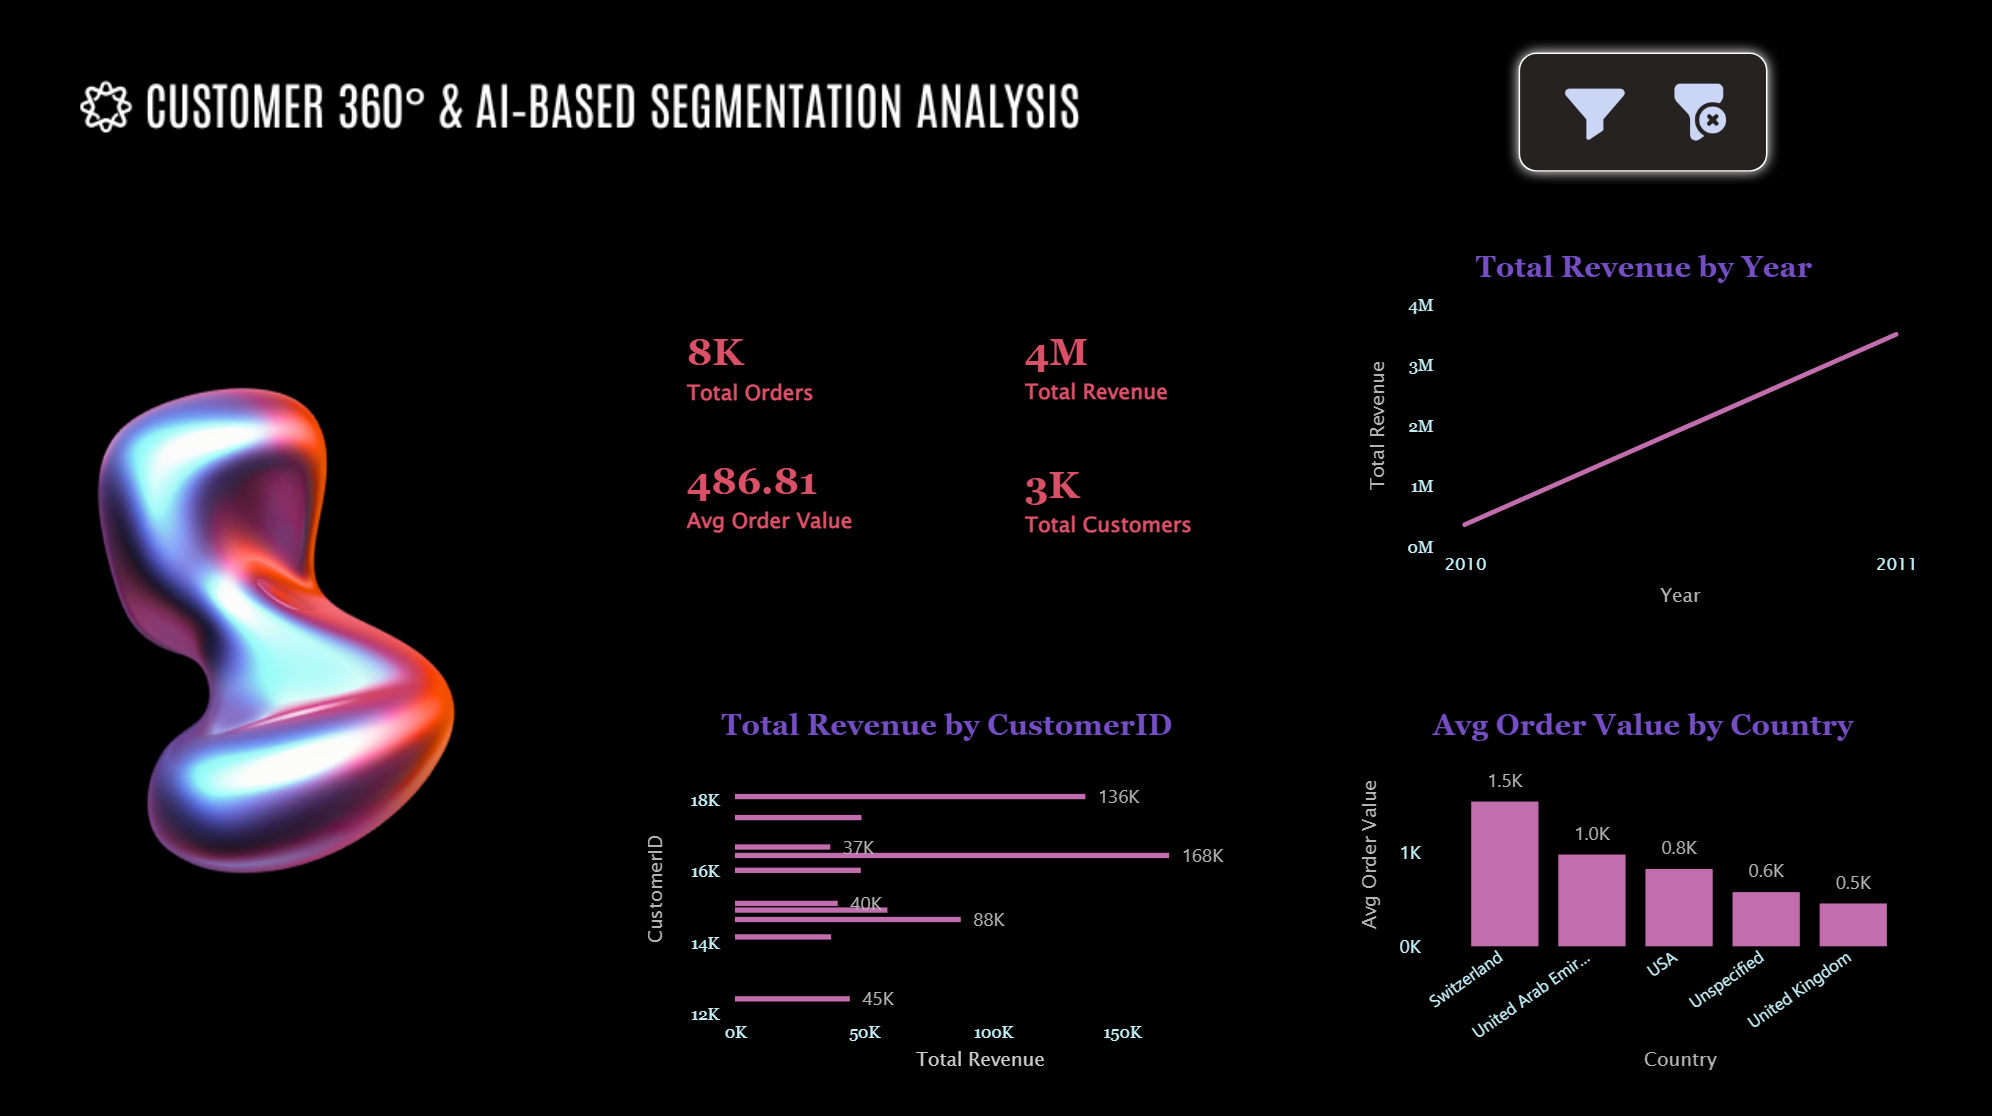

The page's visual inventory and layout, read from the dashboard file:
{"tool":"powerbi","page":{"name":"Page 1","canvas":[1280,720],"ordinal":0},"visuals":[{"type":"shape","box":[964.4,26.4,174.7,92],"z":0},{"type":"lineChart","fields":{"Category":["data.InvoiceDate.Variation.Date Hierarchy.Year","data.InvoiceDate.Variation.Date Hierarchy.Quarter","data.InvoiceDate.Variation.Date Hierarchy.Month","data.InvoiceDate.Variation.Date Hierarchy.Day"],"Y":["data.Total Revenue"]},"box":[872,160.6,359.5,234.6],"z":1000},{"type":"image","box":[1062.1,50.6,49.4,43.7],"z":2000},{"type":"clusteredBarChart","fields":{"Category":["data.CustomerID"],"Y":["data.Total Revenue"]},"box":[411.8,452.6,391.4,238.4],"z":3000},{"type":"image","box":[995.4,50.6,49.4,43.7],"z":4000},{"type":"clusteredColumnChart","fields":{"Category":["data.Country"],"Y":["data.Avg Order Value"]},"box":[866.9,452.6,368.4,238.4],"z":5000},{"type":"cardVisual","fields":{"Data":["data.Total Orders"]},"box":[401.6,183.6,196.3,107.1],"z":6001},{"type":"cardVisual","fields":{"Data":["data.Total Customers"]},"box":[617.1,271.6,214.2,100.7],"z":6002},{"type":"cardVisual","fields":{"Data":["data.Avg Order Value"]},"box":[401.6,266.5,215.5,105.8],"z":6003},{"type":"cardVisual","fields":{"Data":["data.Total Revenue"]},"box":[617.1,186.1,204,102],"z":6004}]}

Visuals, with their boxes in screenshot pixels (x1, y1, x2, y2), scaled from the page's 1280x720 canvas onto the 1992x1116 screenshot:
shape: <region>1501, 41, 1773, 184</region>
lineChart - data.InvoiceDate.Variation.Date Hierarchy.Year x data.InvoiceDate.Variation.Date Hierarchy.Quarter: <region>1357, 249, 1917, 613</region>
image: <region>1653, 78, 1730, 146</region>
clusteredBarChart - data.CustomerID x data.Total Revenue: <region>641, 702, 1250, 1071</region>
image: <region>1549, 78, 1626, 146</region>
clusteredColumnChart - data.Country x data.Avg Order Value: <region>1349, 702, 1922, 1071</region>
cardVisual - data.Total Orders: <region>625, 285, 930, 451</region>
cardVisual - data.Total Customers: <region>960, 421, 1294, 577</region>
cardVisual - data.Avg Order Value: <region>625, 413, 960, 577</region>
cardVisual - data.Total Revenue: <region>960, 288, 1278, 447</region>
